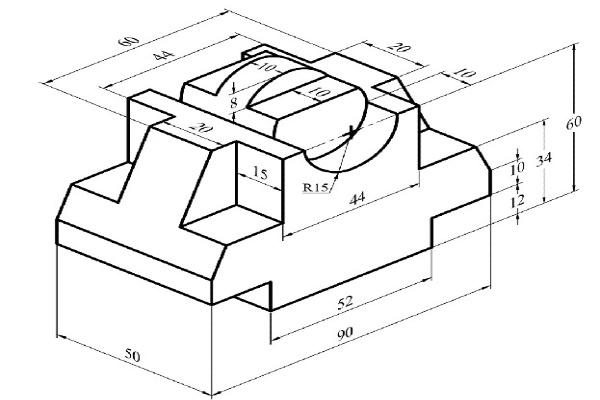dimensions: (185, 118, 217, 141), (383, 34, 415, 57), (147, 45, 180, 67), (327, 325, 361, 346), (119, 345, 147, 369), (529, 146, 555, 169), (304, 81, 333, 101), (345, 187, 372, 207), (301, 180, 334, 195), (114, 31, 141, 49), (252, 163, 274, 184), (562, 114, 586, 133), (332, 293, 355, 311), (451, 66, 476, 82), (256, 58, 280, 74), (509, 157, 527, 173), (227, 95, 242, 110)
